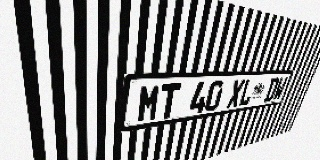0: (204, 81, 225, 112)
4: (188, 81, 210, 114)
D: (263, 77, 280, 102)
L: (238, 79, 256, 106)
M: (136, 84, 162, 123)
T: (157, 83, 181, 120)
W: (272, 77, 288, 101)
X: (226, 79, 245, 108)
